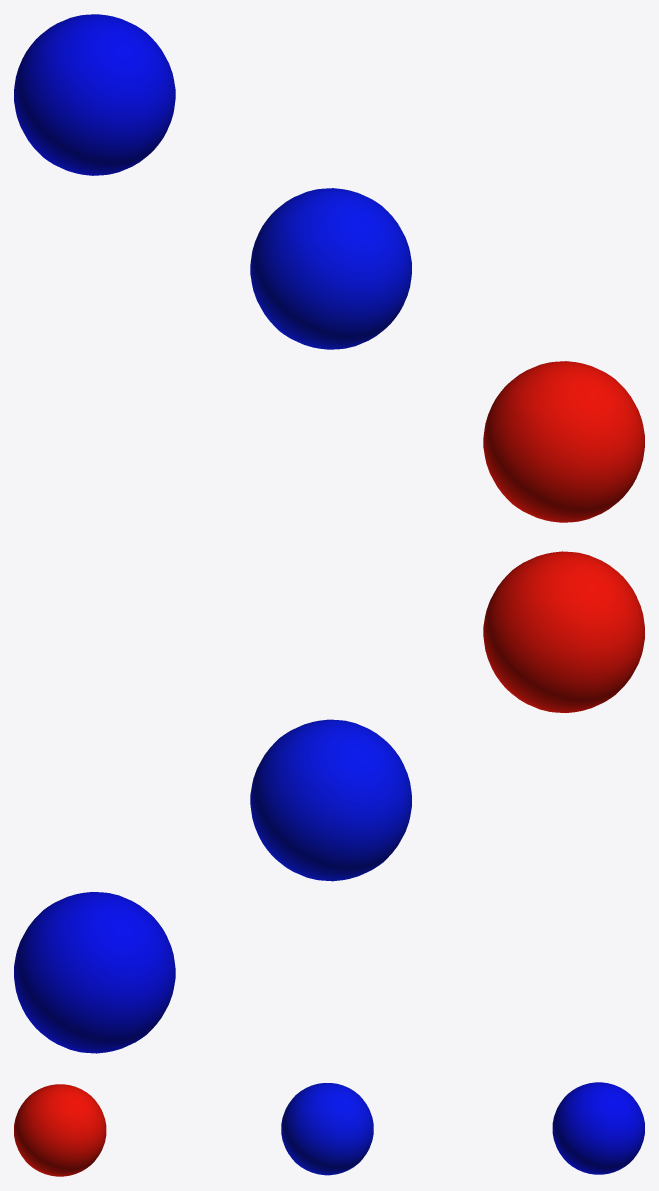
The model's file is Caso(+,-,-).glb.
3 views of the same model, one above another, from view 1: azimuth 30°, elevation 25°; view 2: azimuth 150°, elevation 25°; view 3: azimuth 270°, elevation 25° (orthographic). The views are drawn at different scales.
Parts seen in each view (by area): view 1: Carga 1, Carga 3, Carga 2; view 2: Carga 2, Carga 1, Carga 3; view 3: Carga 1, Carga 3, Carga 2.
Part boxes in pixels (box(x1,y1,x2,y2)): Carga 1: box(483, 361, 644, 522); Carga 3: box(14, 14, 175, 175); Carga 2: box(250, 188, 411, 349); Carga 2: box(250, 719, 411, 881); Carga 1: box(483, 551, 644, 712); Carga 3: box(14, 892, 175, 1053); Carga 1: box(14, 1084, 106, 1176); Carga 3: box(552, 1082, 644, 1174); Carga 2: box(281, 1083, 373, 1175).
Bounding box in the file's own units: 3.44 × 3.52 × 23.52.
